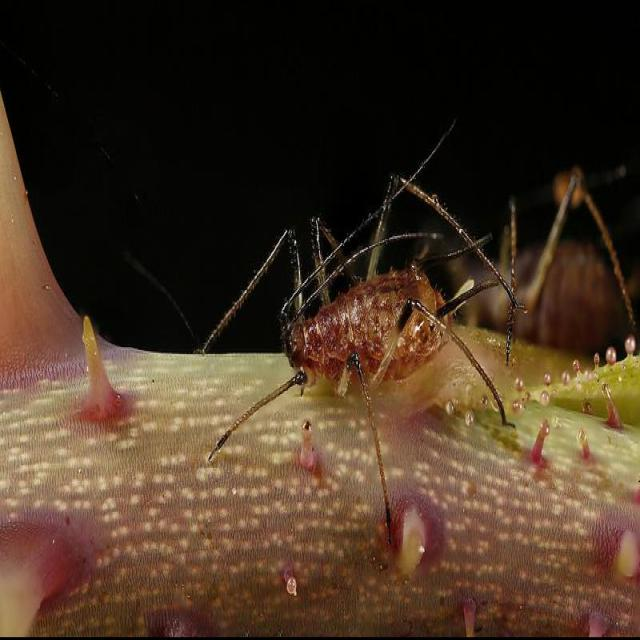Aphids: (212, 176, 525, 515)
